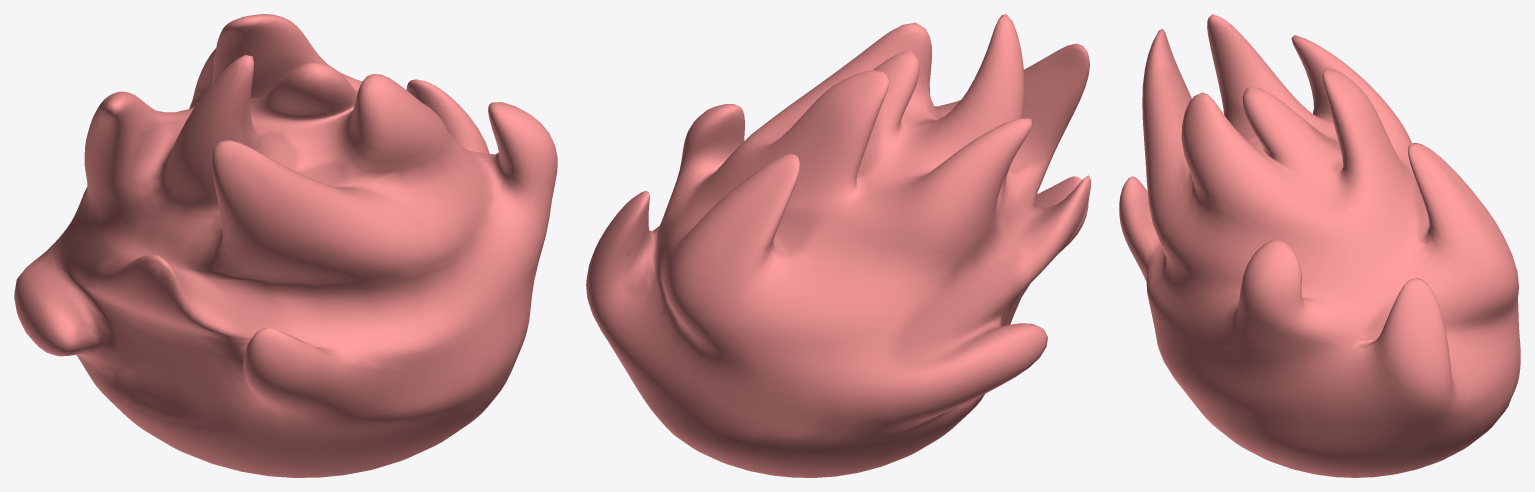
The model's file is CottonCandyLowTree.fbx.
3 renders of one model, left to right at view 1: azimuth 30°, elevation 25°; view 2: azimuth 150°, elevation 25°; view 3: azimuth 270°, elevation 25°, orthographic. The views are drawn at different scales.
Visible parts, largest first — view 1: Sphere; view 2: Sphere; view 3: Sphere.
Part boxes in pixels (bbox=[...]): Sphere: bbox=[14, 14, 557, 477]; Sphere: bbox=[586, 14, 1090, 477]; Sphere: bbox=[1119, 14, 1520, 477].
Bounding box in the file's own units: 205 × 198 × 187.
